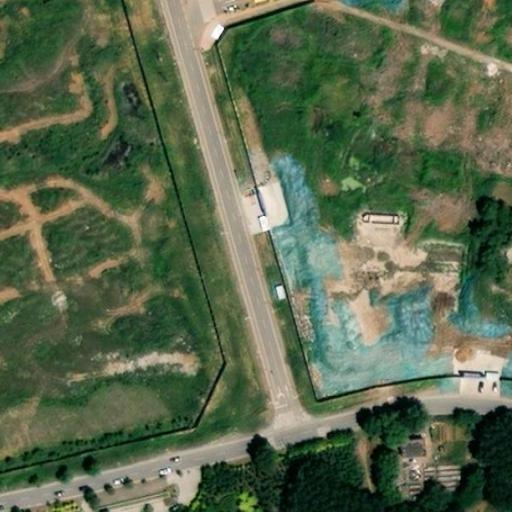building: (252, 175, 291, 229), (395, 434, 426, 458), (498, 374, 512, 396)
